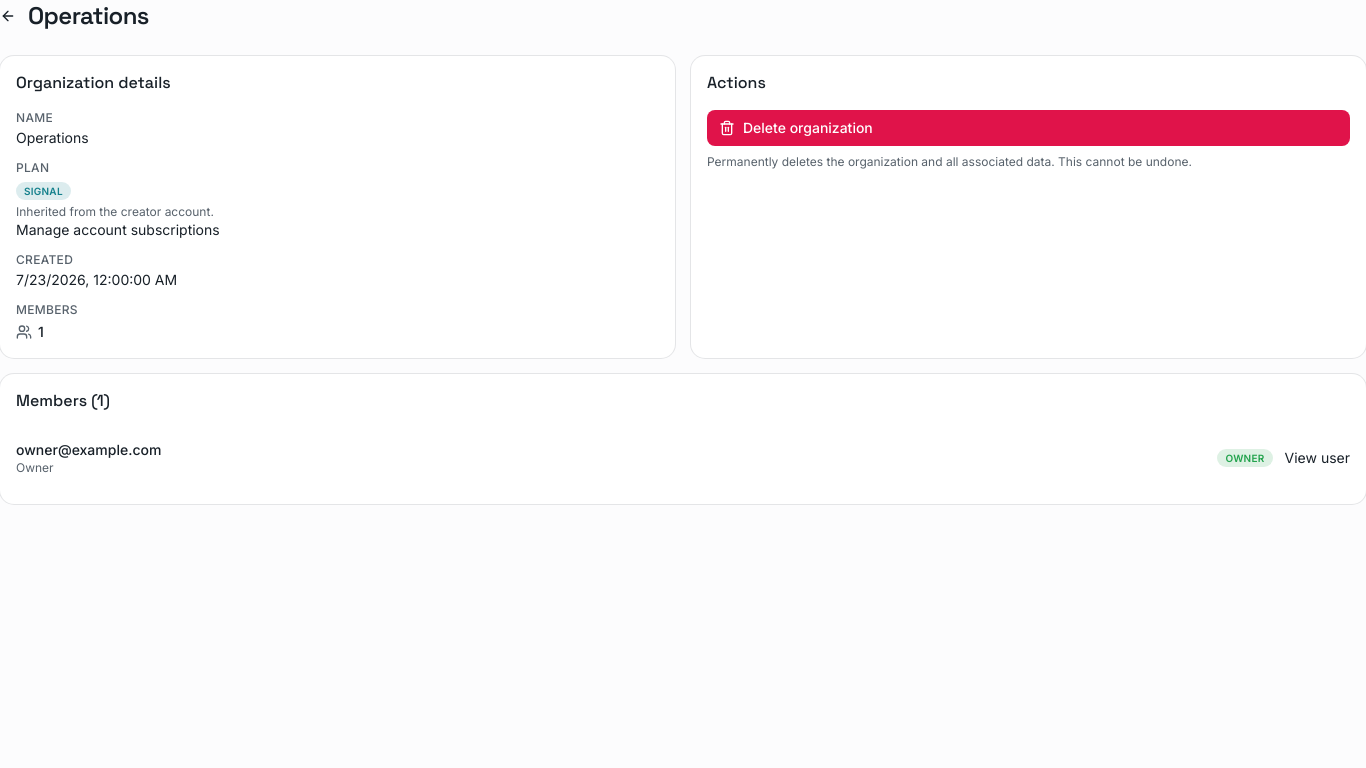
Scenario: AdminOrganizationDetailPage › warns about all organization data without exposing projects
This screenshot has width=1366, height=768.
Expected: the heading "Operations" is shown, [28,0,149,32]
What coordinates should you click on to do the following:
click the button "Delete organization"
I would click on:
 (808, 128)
Its box is [707,110,1350,146].
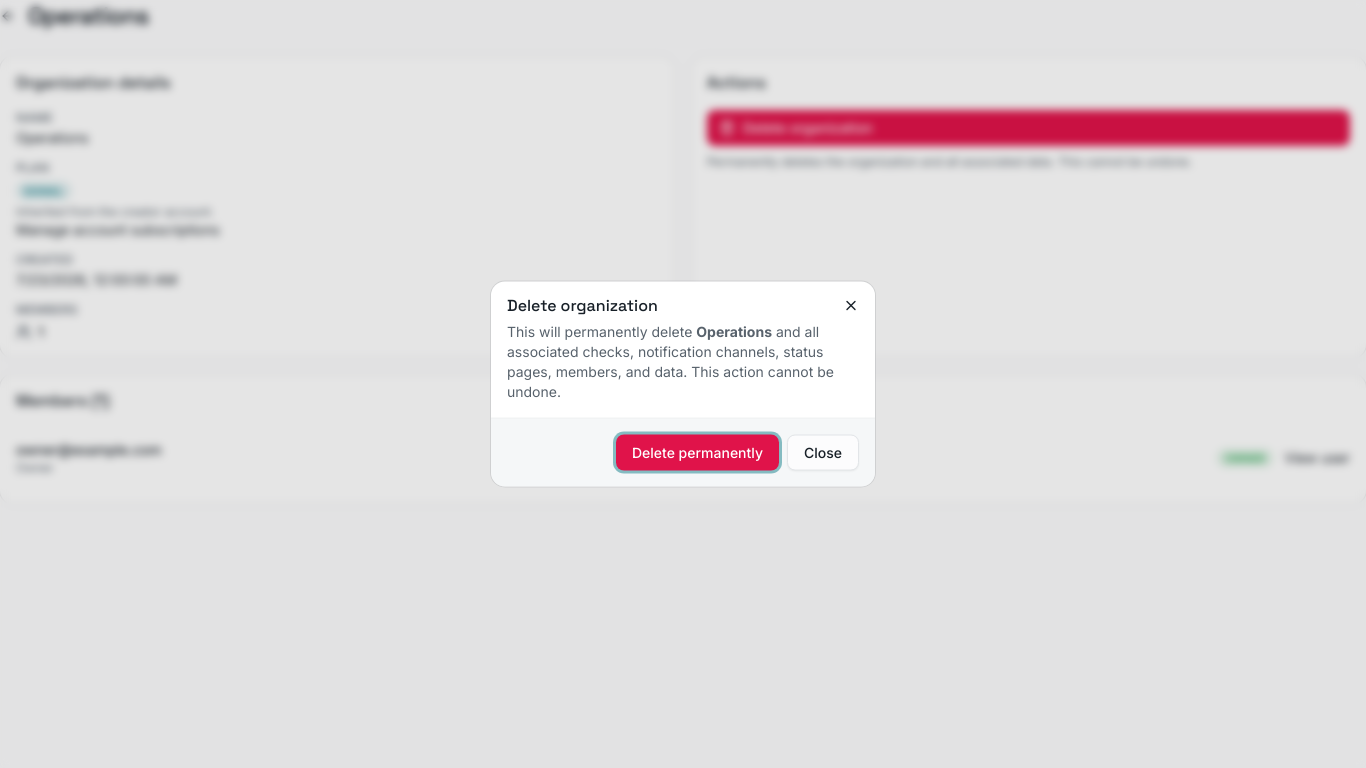
Now the text "checks, notification channels, status pages, members, and data" is shown, box [507,322,834,400]
